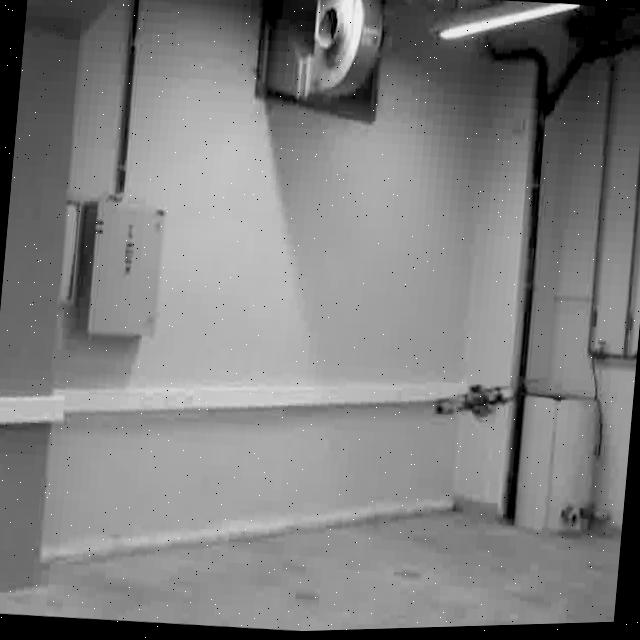drone: (434, 374, 524, 430)
